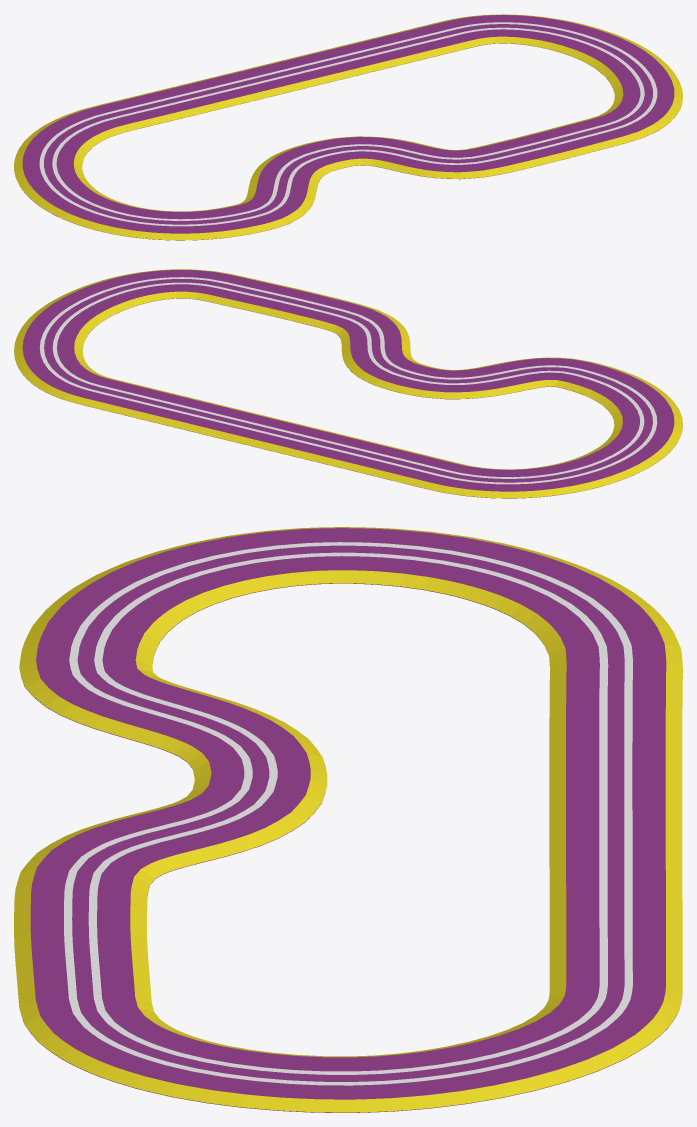
The model's file is flat-track.fbx.
The picture shows the model from 3 angles, top to bottom: view 1: azimuth 30°, elevation 25°; view 2: azimuth 150°, elevation 25°; view 3: azimuth 270°, elevation 25°; orthographic projection. The views are drawn at different scales.
Parts seen in each view (by area): view 1: Road Segment Copy; view 2: Road Segment Copy; view 3: Road Segment Copy.
Boxes of the visible parts, x1,y1,x2,y2 form: Road Segment Copy: (14,14,682,240); Road Segment Copy: (14,269,682,498); Road Segment Copy: (14,527,682,1112).
Bounding box in the file's own units: 23452 × 120 × 11324.
